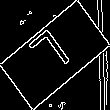L_SE: (29, 26, 81, 84)
